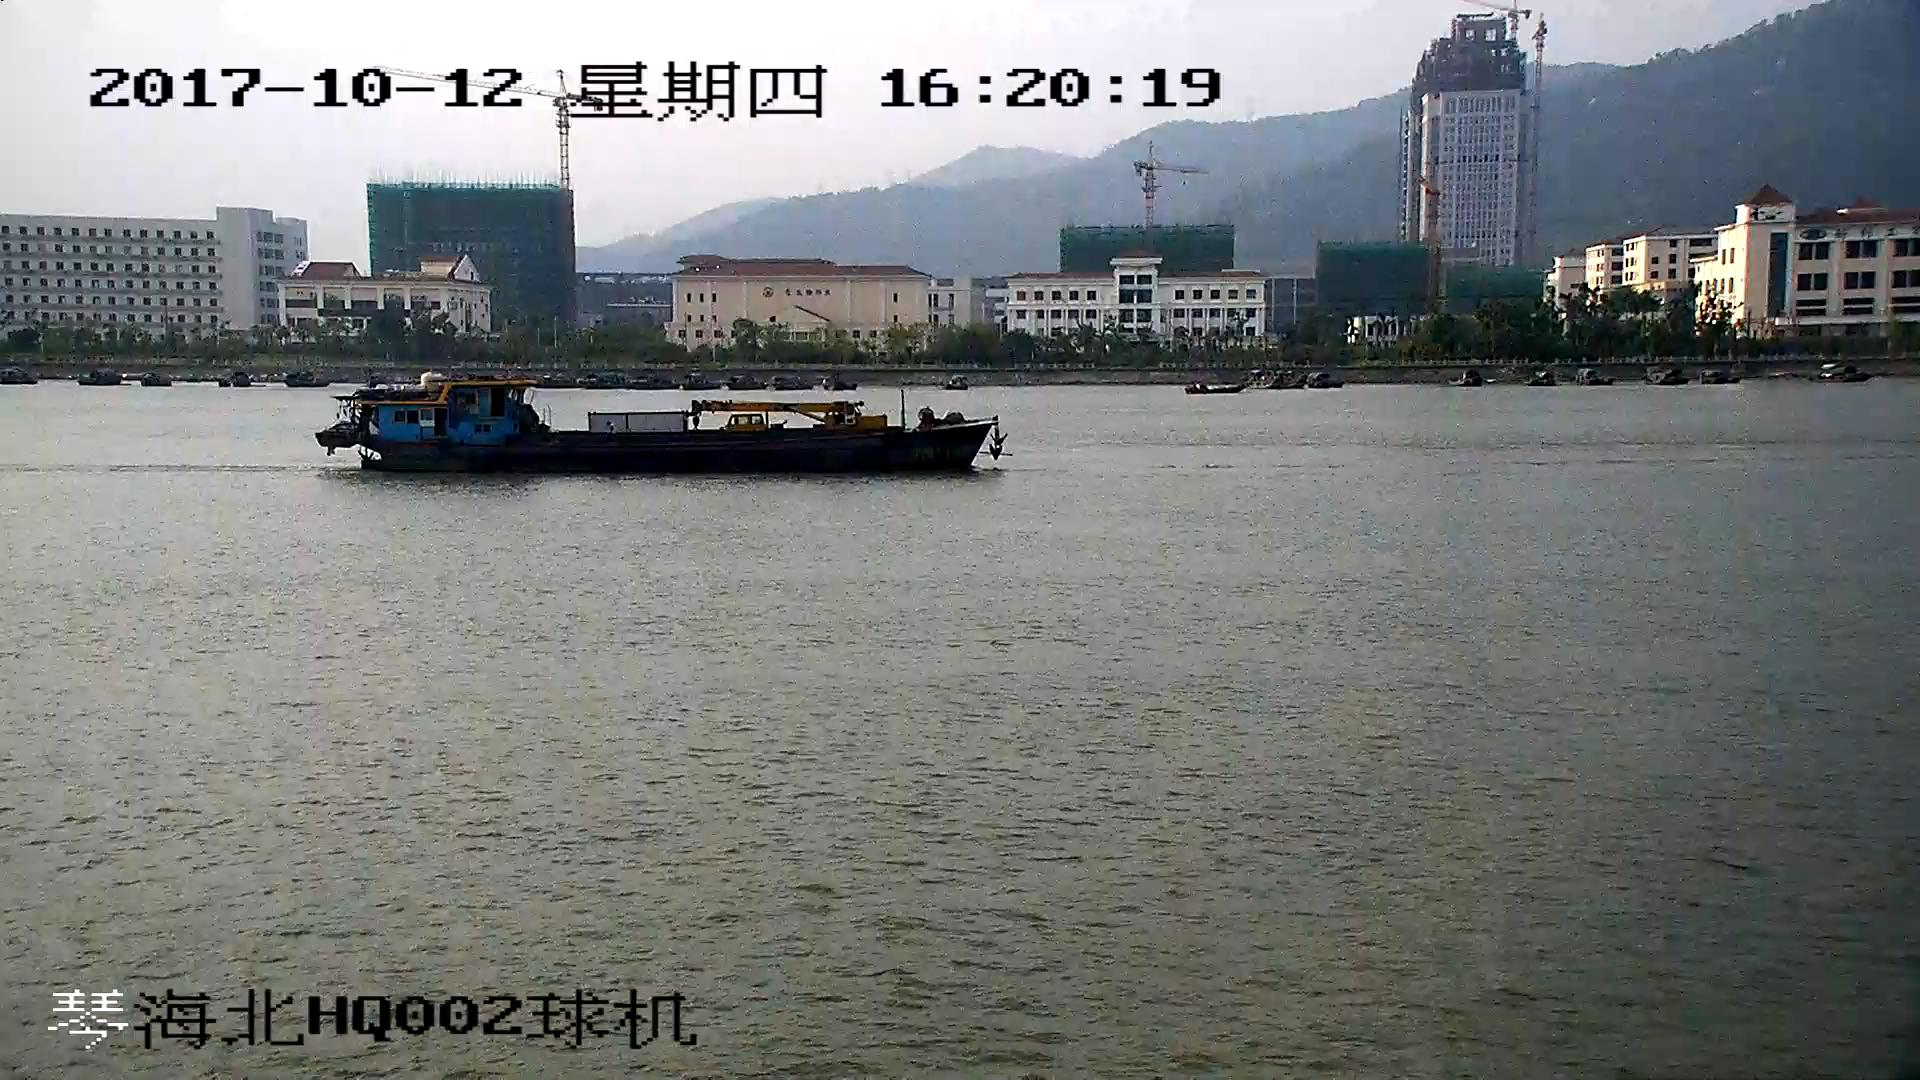fishing boat: (317, 383, 1006, 475)
